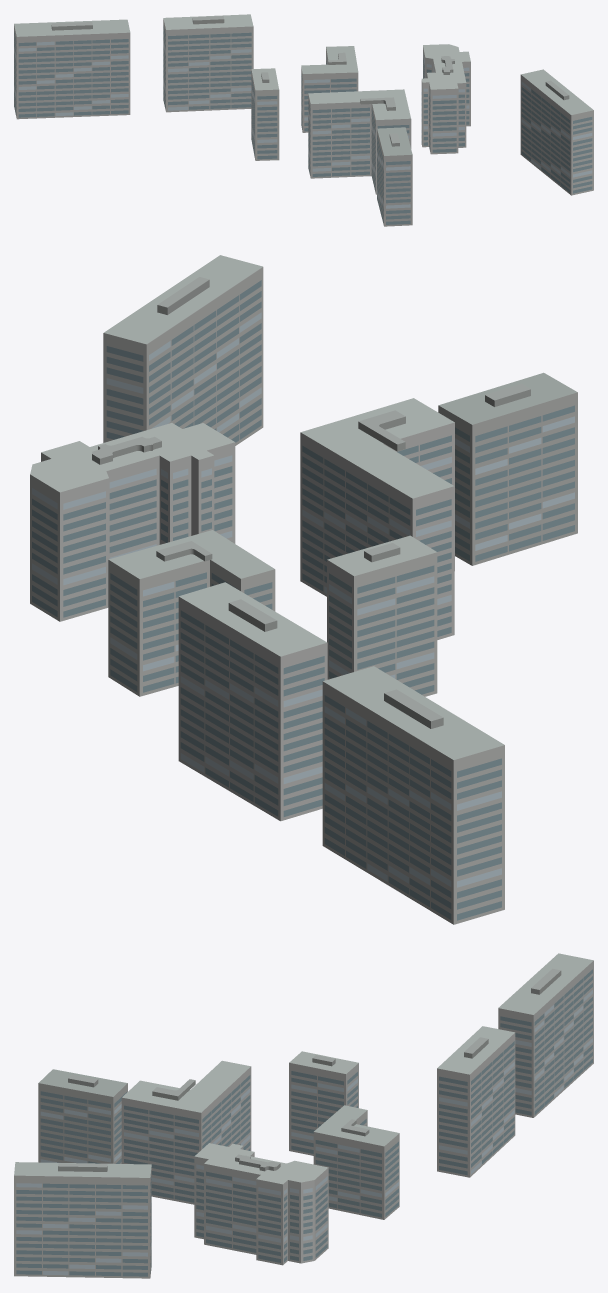
File: apt-a13307002.glb
3 renders of one model, top to bottom at view 1: azimuth 30°, elevation 25°; view 2: azimuth 150°, elevation 25°; view 3: azimuth 270°, elevation 25°, orthographic. The views are drawn at different scales.
Parts seen in each view (by area): view 1: apt-a13307002; view 2: apt-a13307002; view 3: apt-a13307002.
Boxes of the visible parts, x1,y1,x2,y2 form: apt-a13307002: (14, 14, 593, 226); apt-a13307002: (30, 255, 577, 924); apt-a13307002: (14, 953, 593, 1278).
Size of the model in its own units: 185 by 42 by 205.
